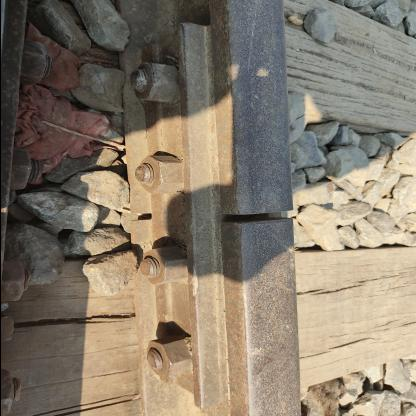Non Defective 2: (196, 178, 303, 274)
Non Defective 3: (92, 19, 227, 415)
